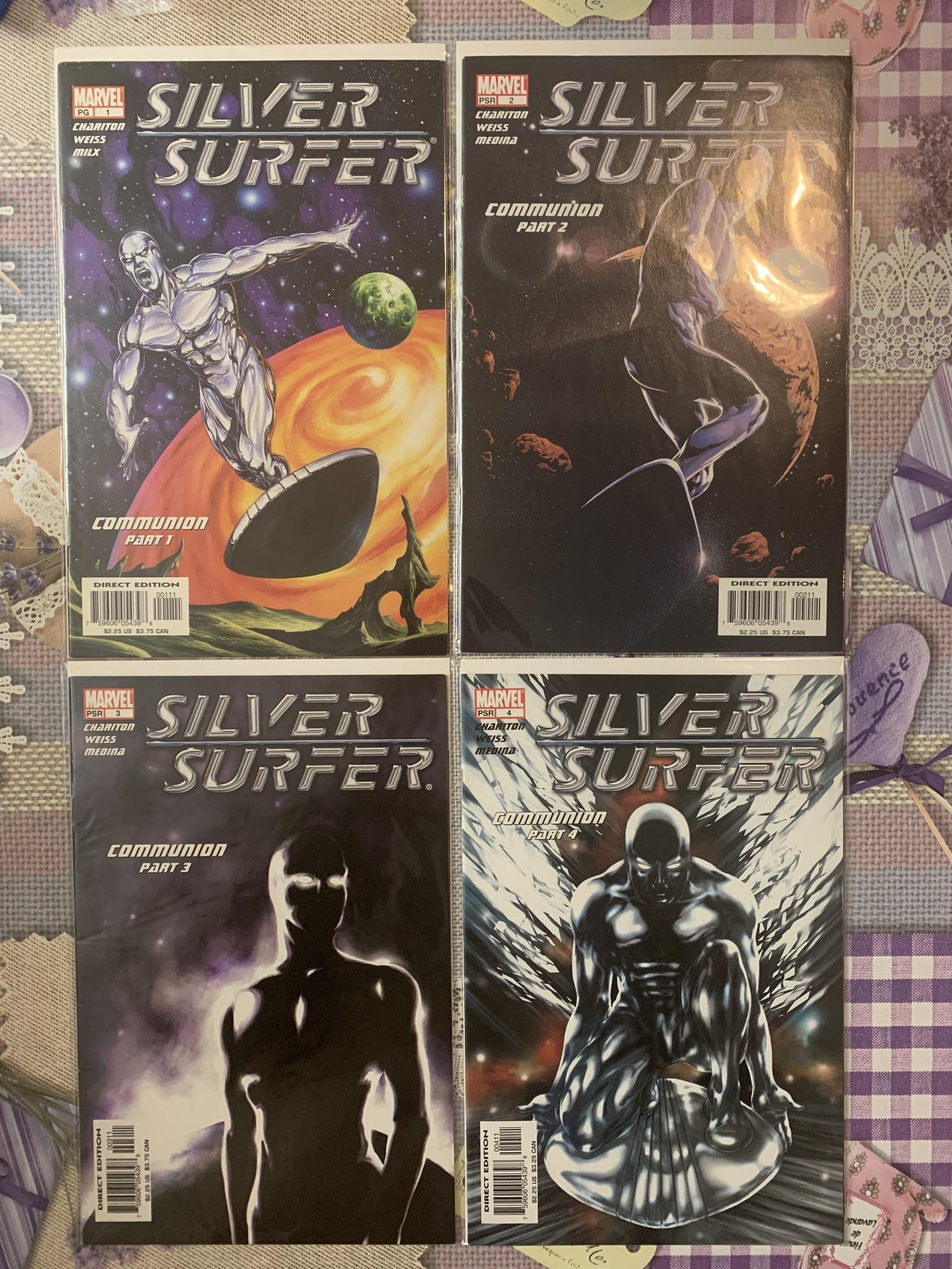comic: (457, 41, 853, 654), (56, 44, 450, 659), (71, 658, 454, 1248), (462, 657, 845, 1246)
